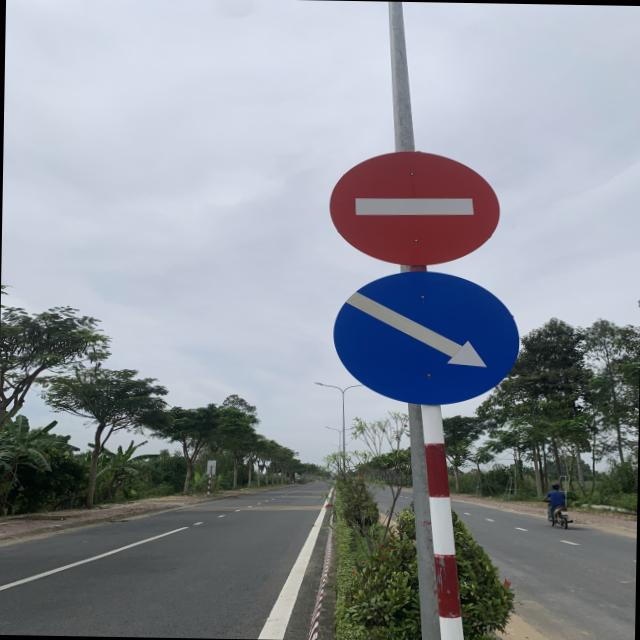Cam_Di_Nguoc_Chieu: (330, 150, 500, 266)
Chi_Huong_Di_Phai: (334, 268, 520, 407)
